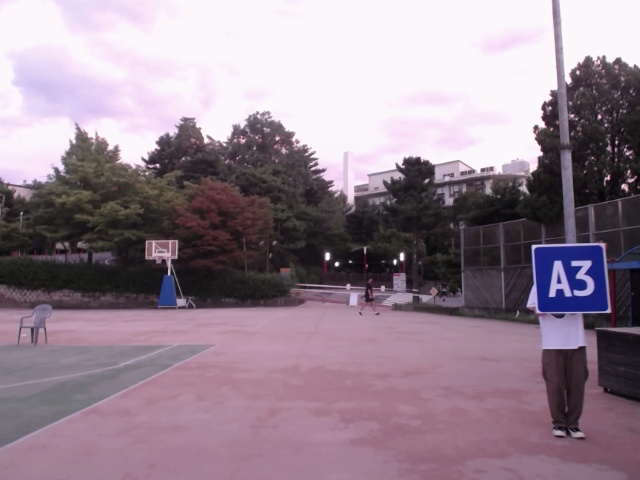delivery_a3: (533, 244, 611, 313)
